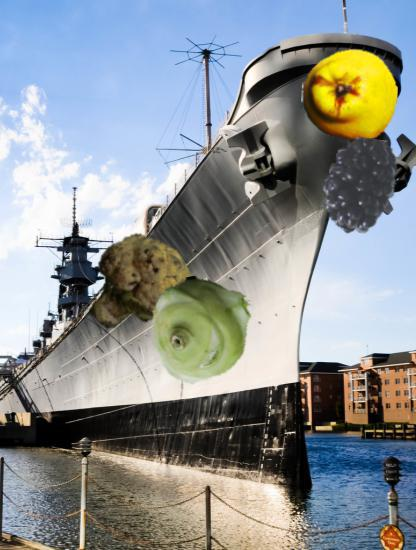Cauliflower: (87, 235, 199, 347)
Kohlrabi: (150, 275, 258, 383)
Mulberry: (310, 137, 408, 235)
Quince: (302, 47, 398, 143)
